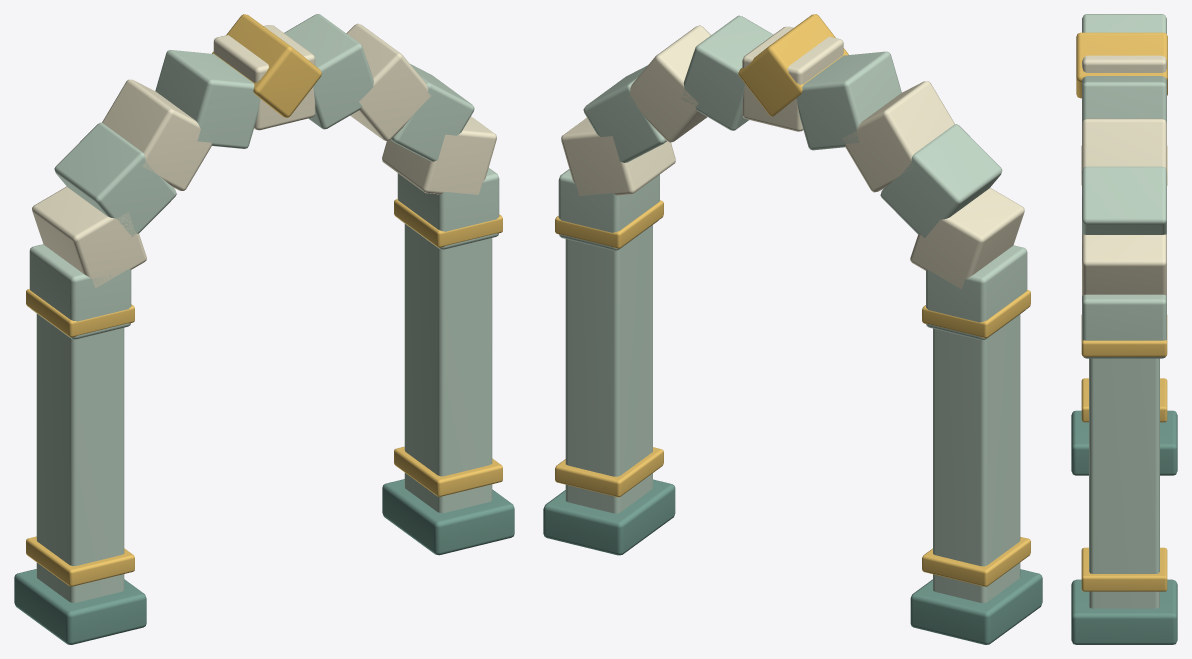
File: ruins_arch.glb
The picture shows the model from 3 angles, left to right: view 1: azimuth 30°, elevation 25°; view 2: azimuth 150°, elevation 25°; view 3: azimuth 270°, elevation 25°; orthographic projection. The views are drawn at different scales.
Parts seen in each view (by area): view 1: Column.001, Column, ArchStone.008, ArchStone.006, ArchStone.009, ArchStone.007, Plinth, Plinth.001, ArchStone.004, ArchStone.010, ArchStone.001, ArchStone.003 (+8 smaller); view 2: Column, Column.001, ArchStone.008, ArchStone.006, ArchStone.007, ArchStone.009, Plinth.001, Plinth, ArchStone.004, ArchStone.001, ArchStone.010, ArchStone.003 (+8 smaller); view 3: Column.001, ArchStone.002, ArchStone.001, Plinth.001, ArchStone.003, ArchStone, ArchStone.004, Crest, Plinth, Band.002, ArchStone.006, Band.003 (+2 smaller).
Boxes of the visible parts, bbox=[...] form: Column.001: bbox=[404, 224, 492, 513]; Column: bbox=[36, 314, 124, 602]; ArchStone.008: bbox=[54, 122, 176, 236]; ArchStone.006: bbox=[155, 50, 260, 148]; ArchStone.009: bbox=[32, 186, 146, 288]; ArchStone.007: bbox=[102, 79, 211, 190]; Plinth: bbox=[14, 569, 146, 644]; Plinth.001: bbox=[382, 479, 514, 555]; ArchStone.004: bbox=[284, 14, 373, 129]; ArchStone.010: bbox=[29, 244, 131, 339]; ArchStone.001: bbox=[382, 116, 496, 194]; ArchStone.003: bbox=[346, 23, 430, 141]; Column: bbox=[933, 314, 1020, 602]; Column.001: bbox=[565, 225, 652, 513]; ArchStone.008: bbox=[880, 124, 1002, 238]; ArchStone.006: bbox=[796, 51, 901, 150]; ArchStone.007: bbox=[842, 81, 954, 192]; ArchStone.009: bbox=[910, 188, 1024, 289]; Plinth.001: bbox=[543, 479, 675, 555]; Plinth: bbox=[910, 569, 1042, 644]; ArchStone.004: bbox=[681, 15, 773, 130]; ArchStone.001: bbox=[561, 118, 675, 196]; ArchStone.010: bbox=[926, 245, 1027, 340]; ArchStone.003: bbox=[627, 25, 710, 142]; Column.001: bbox=[1089, 358, 1159, 608]; ArchStone.002: bbox=[1082, 166, 1166, 234]; ArchStone.001: bbox=[1082, 234, 1166, 295]; Plinth.001: bbox=[1071, 579, 1177, 644]; ArchStone.003: bbox=[1082, 118, 1166, 170]; ArchStone: bbox=[1082, 294, 1166, 358]; ArchStone.004: bbox=[1082, 76, 1166, 122]; Crest: bbox=[1076, 32, 1167, 98]; Plinth: bbox=[1071, 410, 1177, 475]; Band.002: bbox=[1081, 547, 1167, 591]; ArchStone.006: bbox=[1082, 14, 1166, 33]; Band.003: bbox=[1081, 315, 1167, 356].
Size of the model in its own units: 4.14 by 4.79 by 0.9.
